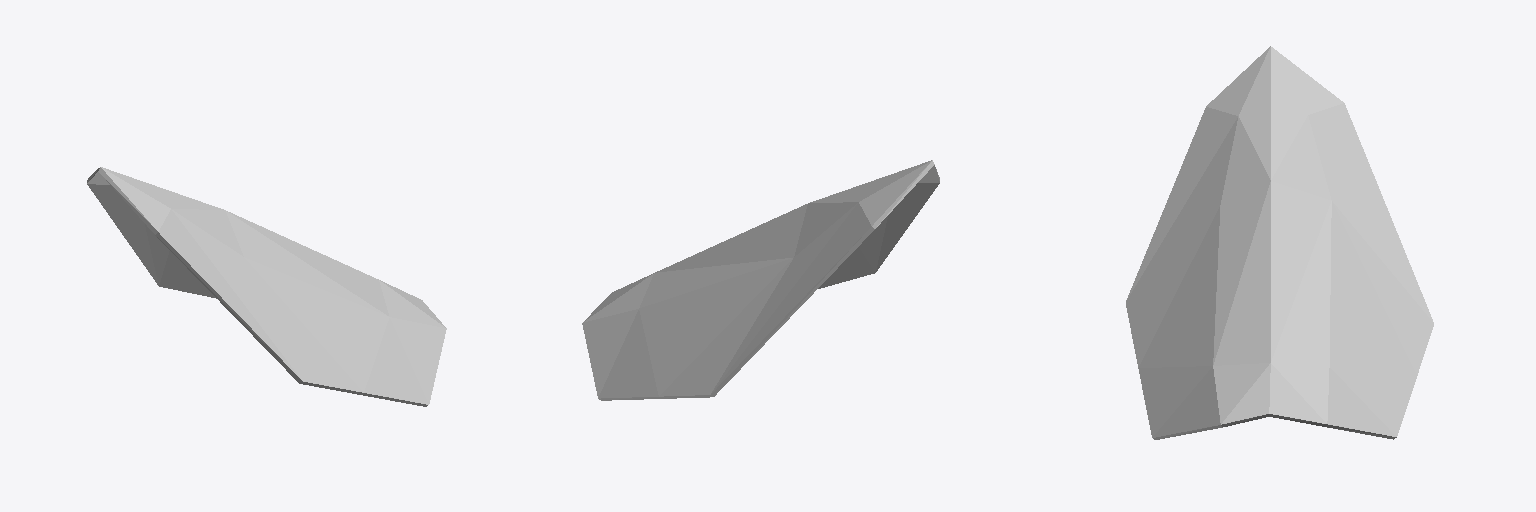
The model's file is STEKLO.obj.
3 renders of one model, left to right at view 1: azimuth 30°, elevation 25°; view 2: azimuth 150°, elevation 25°; view 3: azimuth 270°, elevation 25°, orthographic.
Parts seen in each view (by area): view 1: Plane.003; view 2: Plane.003; view 3: Plane.003.
Boxes of the visible parts, x1,y1,x2,y2 form: Plane.003: [87, 167, 446, 406]; Plane.003: [582, 160, 939, 400]; Plane.003: [1126, 46, 1433, 439].
Size of the model in its own units: 1.27 by 0.9869 by 1.05.